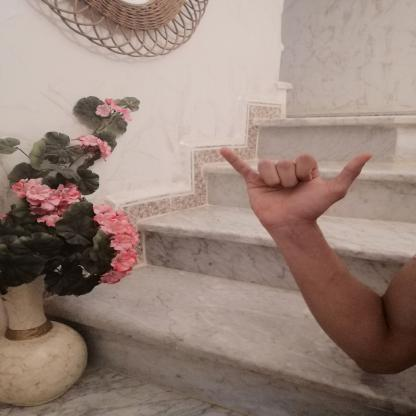YA: (202, 135, 388, 237)
